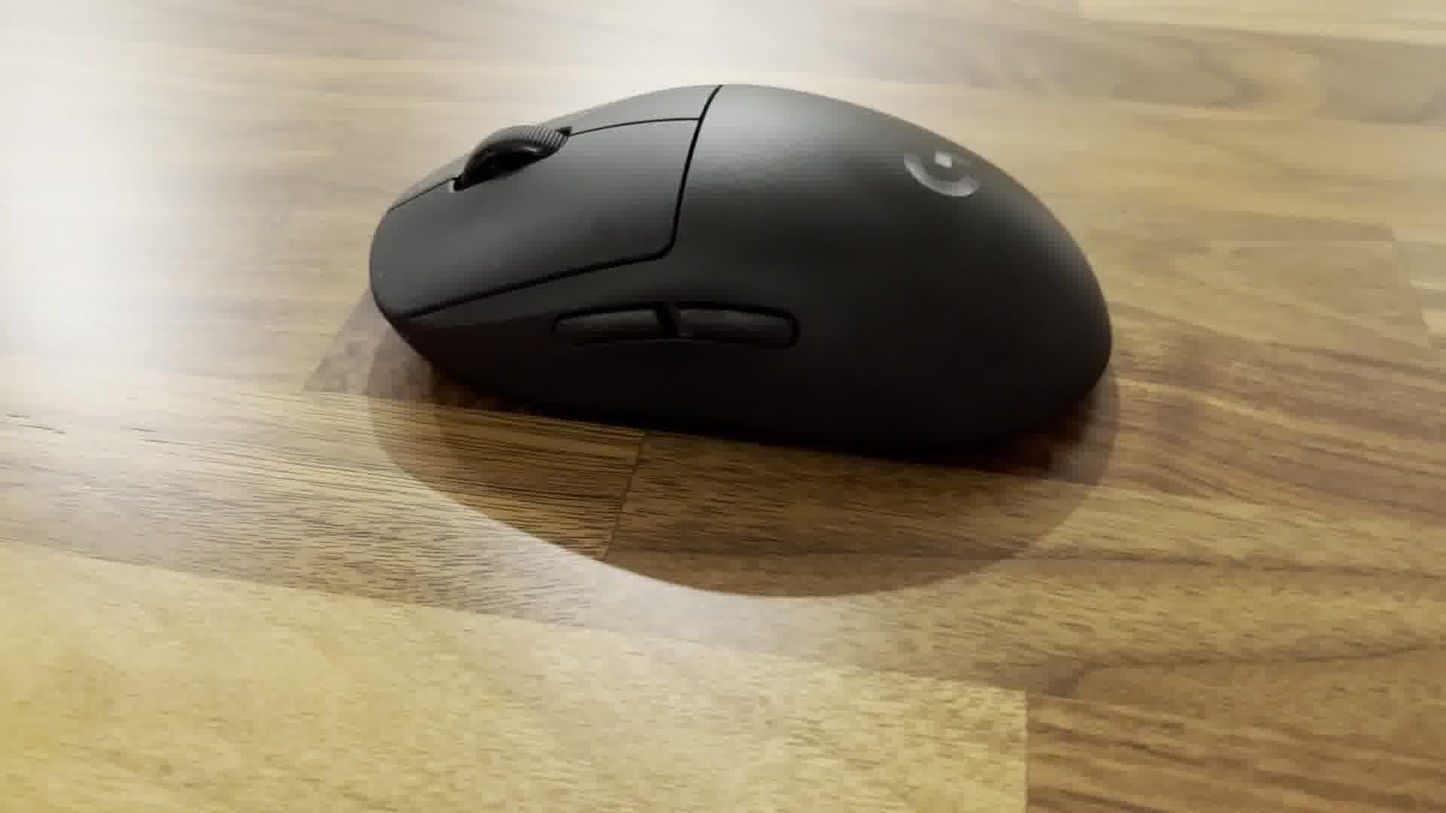logicool: (365, 81, 1118, 461)
